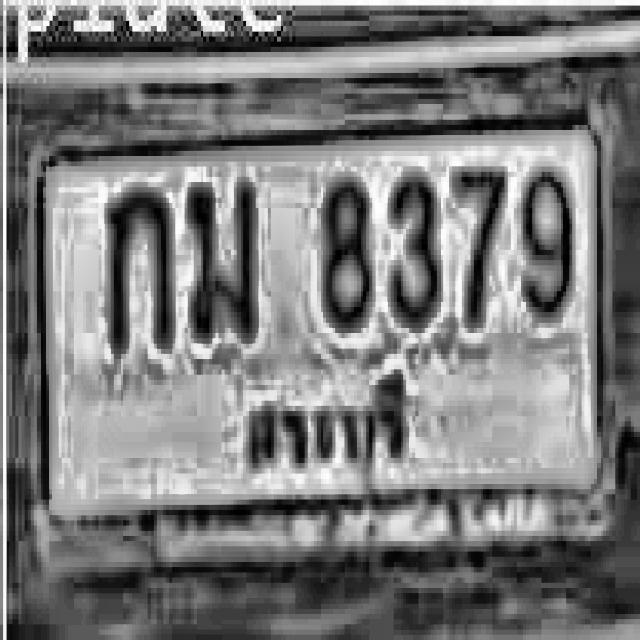license-plate: (27, 115, 625, 538)
